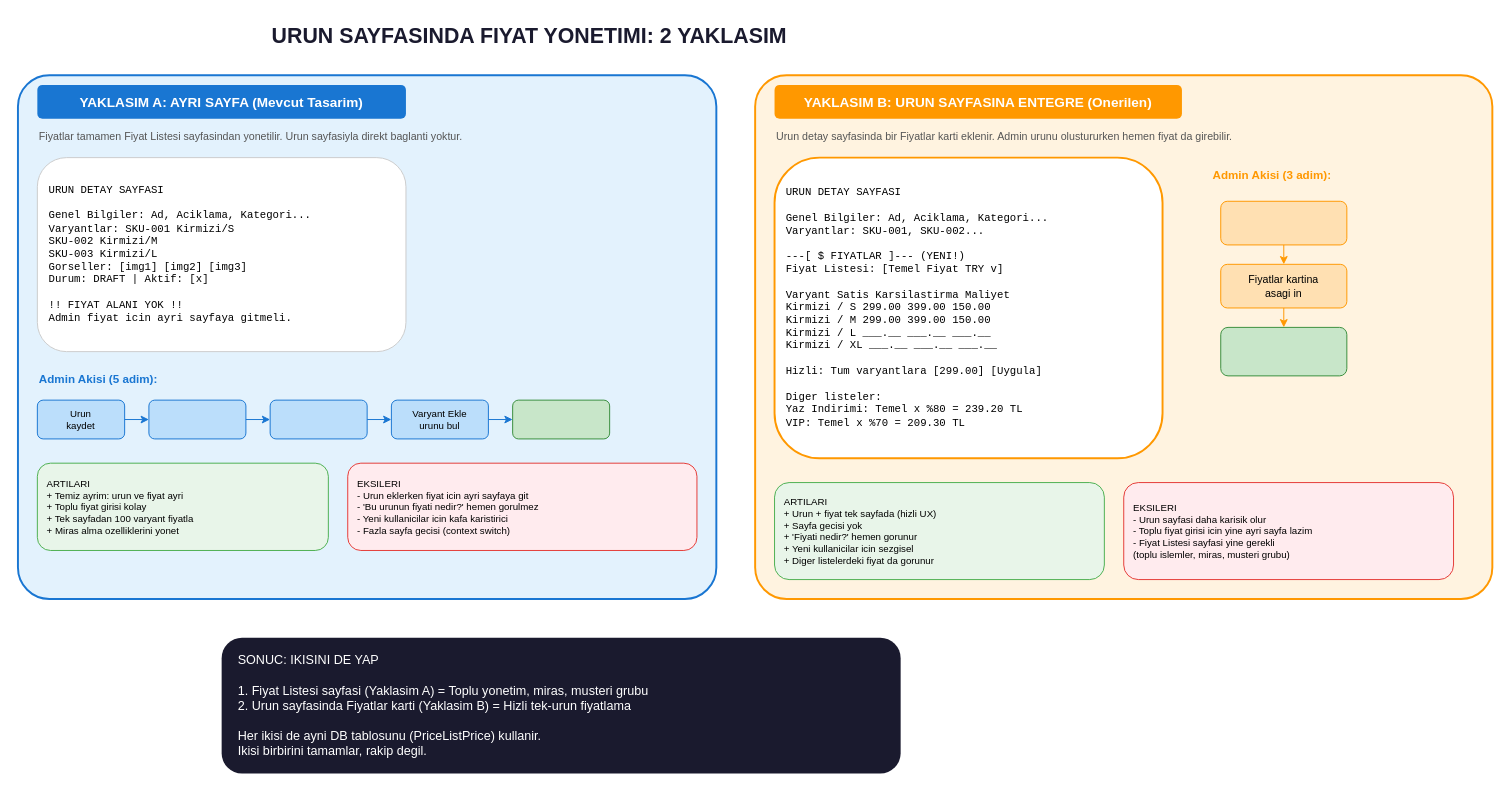
Image size: 1509x790. Some labels were removed from this diagram. Each missing label, with the box of its shape:
Fiyatlari gir + kaydet: (512, 399, 610, 439)
Liste sec fiyat gir KAYDET: (1220, 326, 1347, 376)
Sol menude Fiyat Listeleri: (148, 399, 246, 439)
Temel TRY listesini ac: (269, 399, 367, 439)
Urun + varyant olustur: (1220, 200, 1347, 245)
